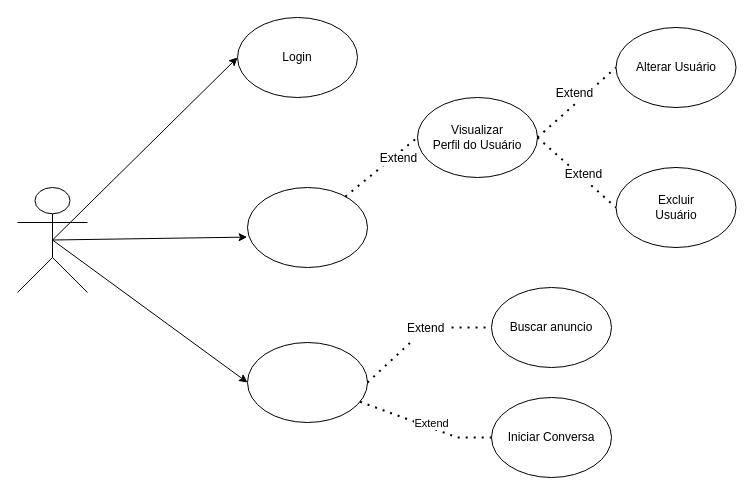
Image size: 754x495. Some labels were removed from this diagram. The shapes that lost their labels are listed below. From the top down, each one's box as (x1, y1, x2, y2) in pixels, then its label:
(16, 186, 88, 292): Usuário
(246, 186, 368, 268): Cadastrar Usuario
(246, 342, 368, 422): Visualizar anúncios
